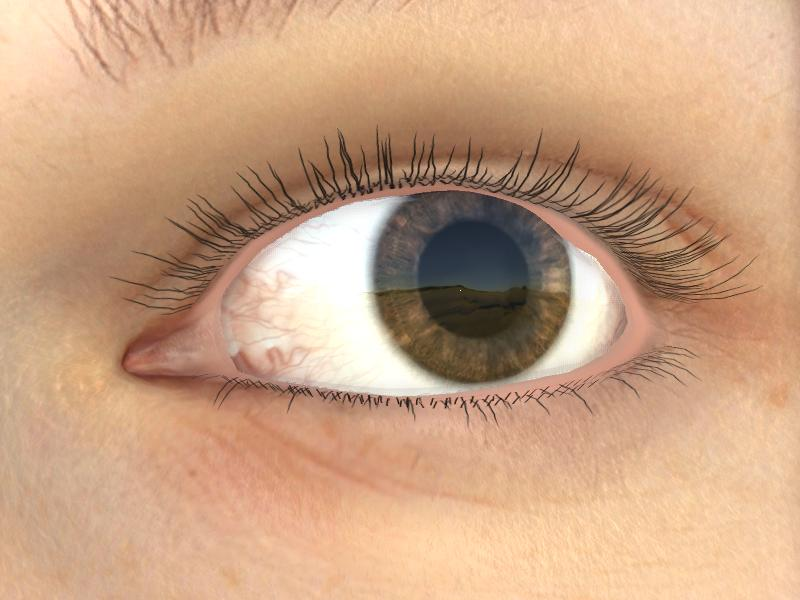eye: (375, 195, 572, 380)
